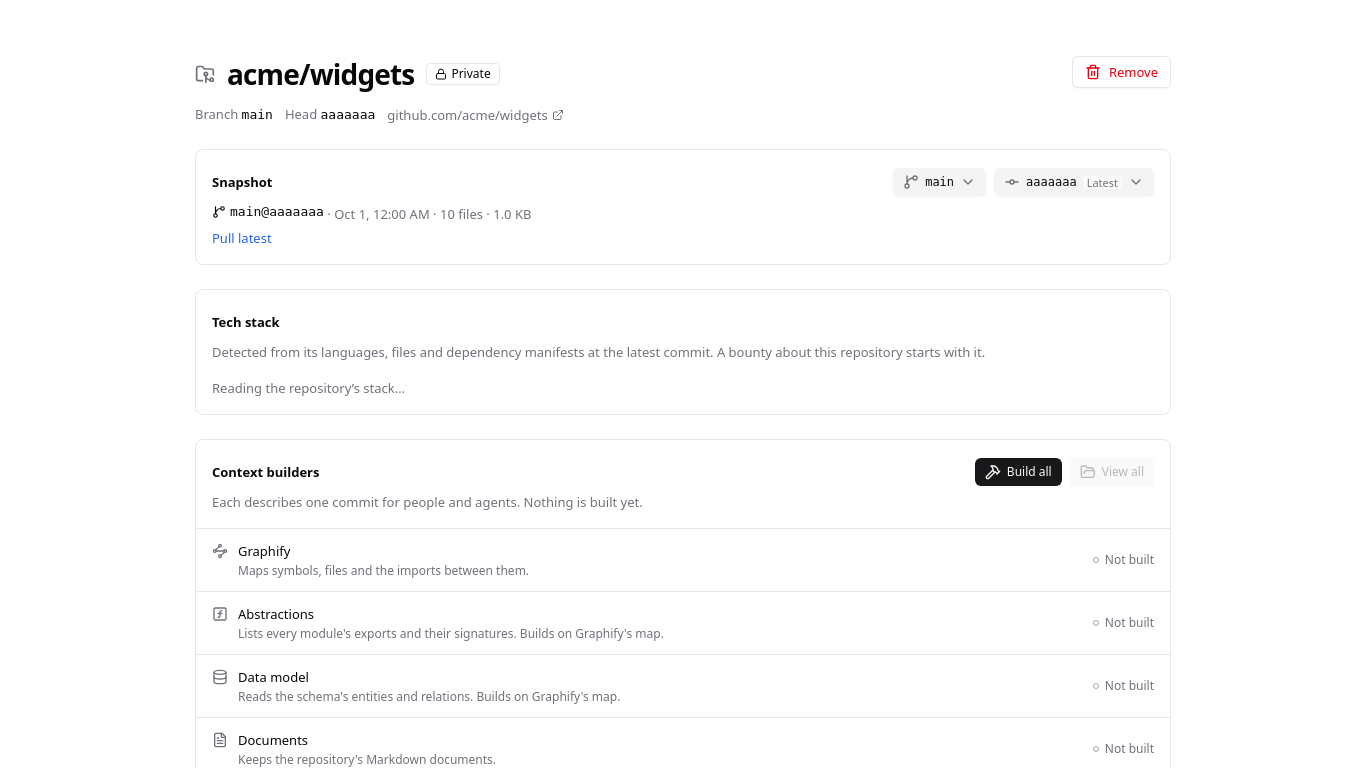
Test case: Build all posts the snapshot once, and every card follows its run
expect the text "main@aaaaaaa · Oct 1, 12:00 AM · 10 files · 1.0 KB" is shown: met, box [212,204,531,223]
Click the button "Build all" at (1018, 472), box [975,458,1062,486]
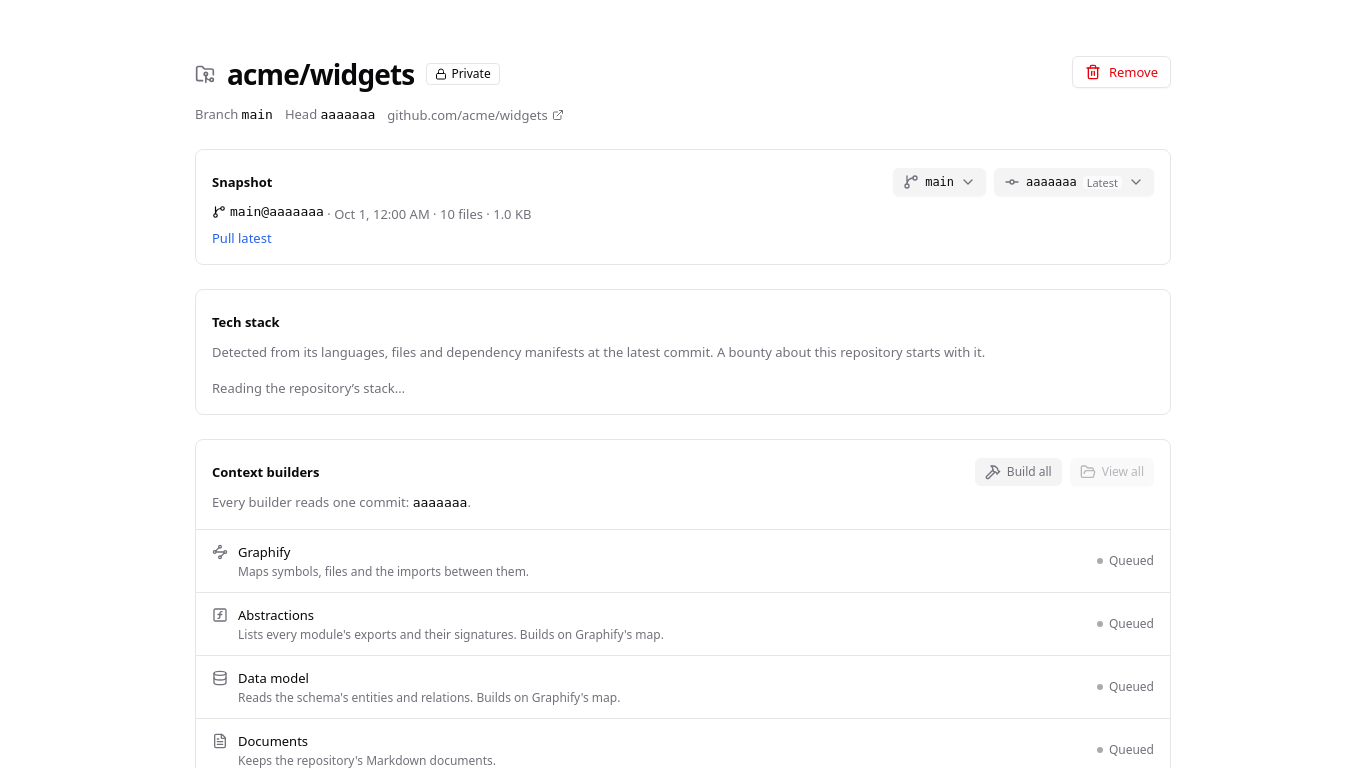
expect the text "Queued" is shown: met, box [1097,553,1154,569]
expect the text "Every builder reads one commit: aaaaaaa." is shown: met, box [212,493,471,511]
expect the button "Build all" is disabled: met, box [975,458,1062,486]
